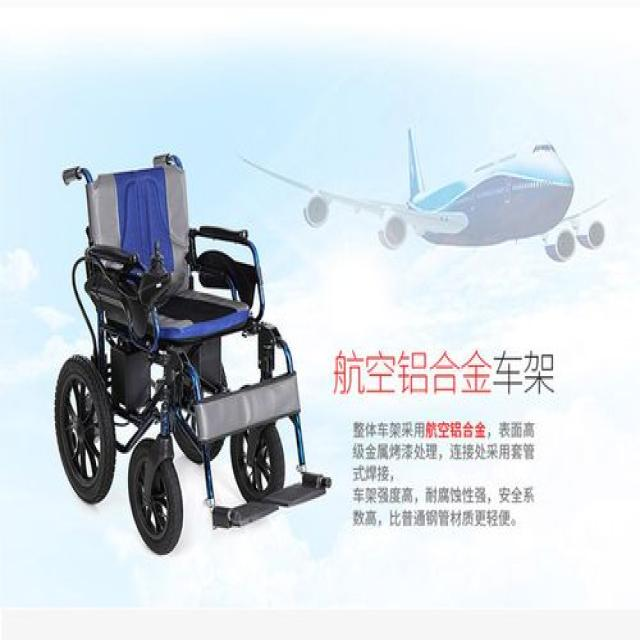wheelchairs: (37, 144, 337, 562)
